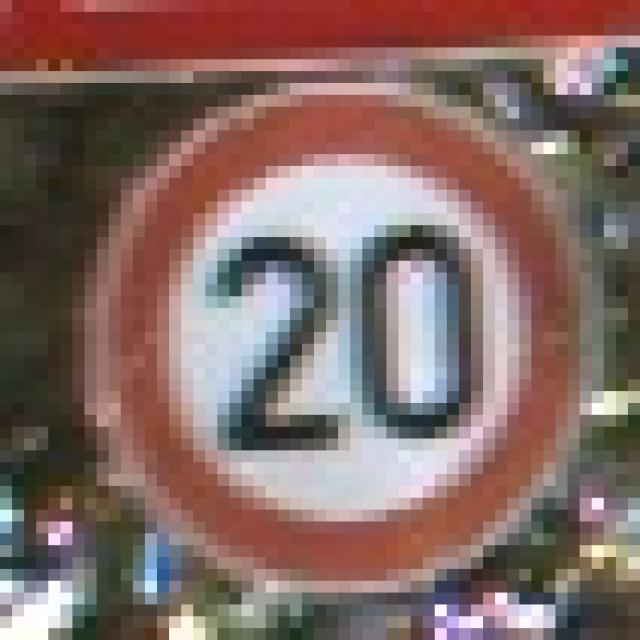Speed Limit -20-: (72, 59, 580, 581)
